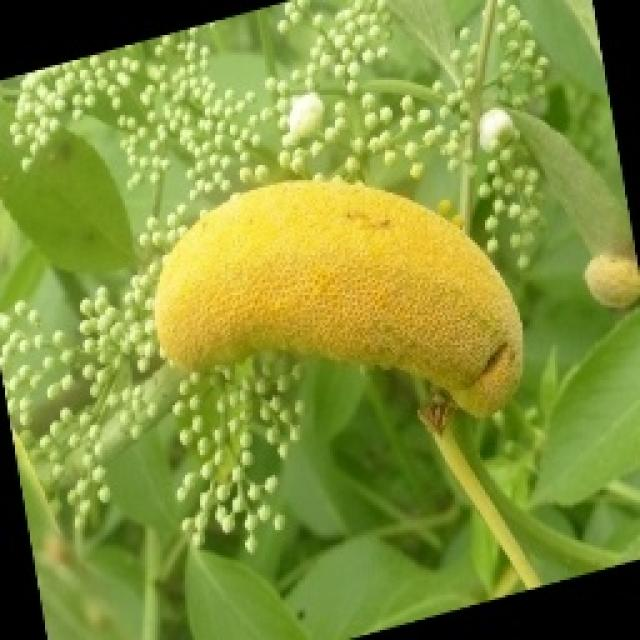Elderberry_rust: (150, 175, 525, 423)
